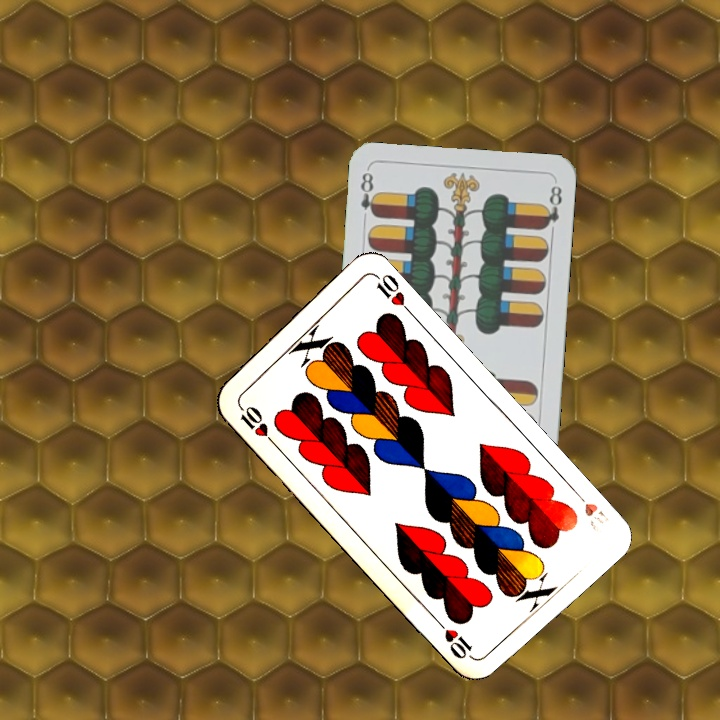E8: (356, 168, 381, 220)
H10: (233, 398, 278, 447), (569, 485, 612, 535)
